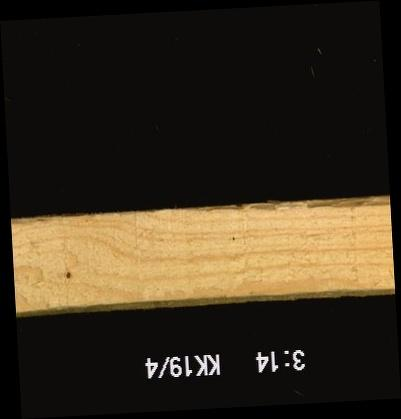small_knot: (63, 268, 73, 282)
